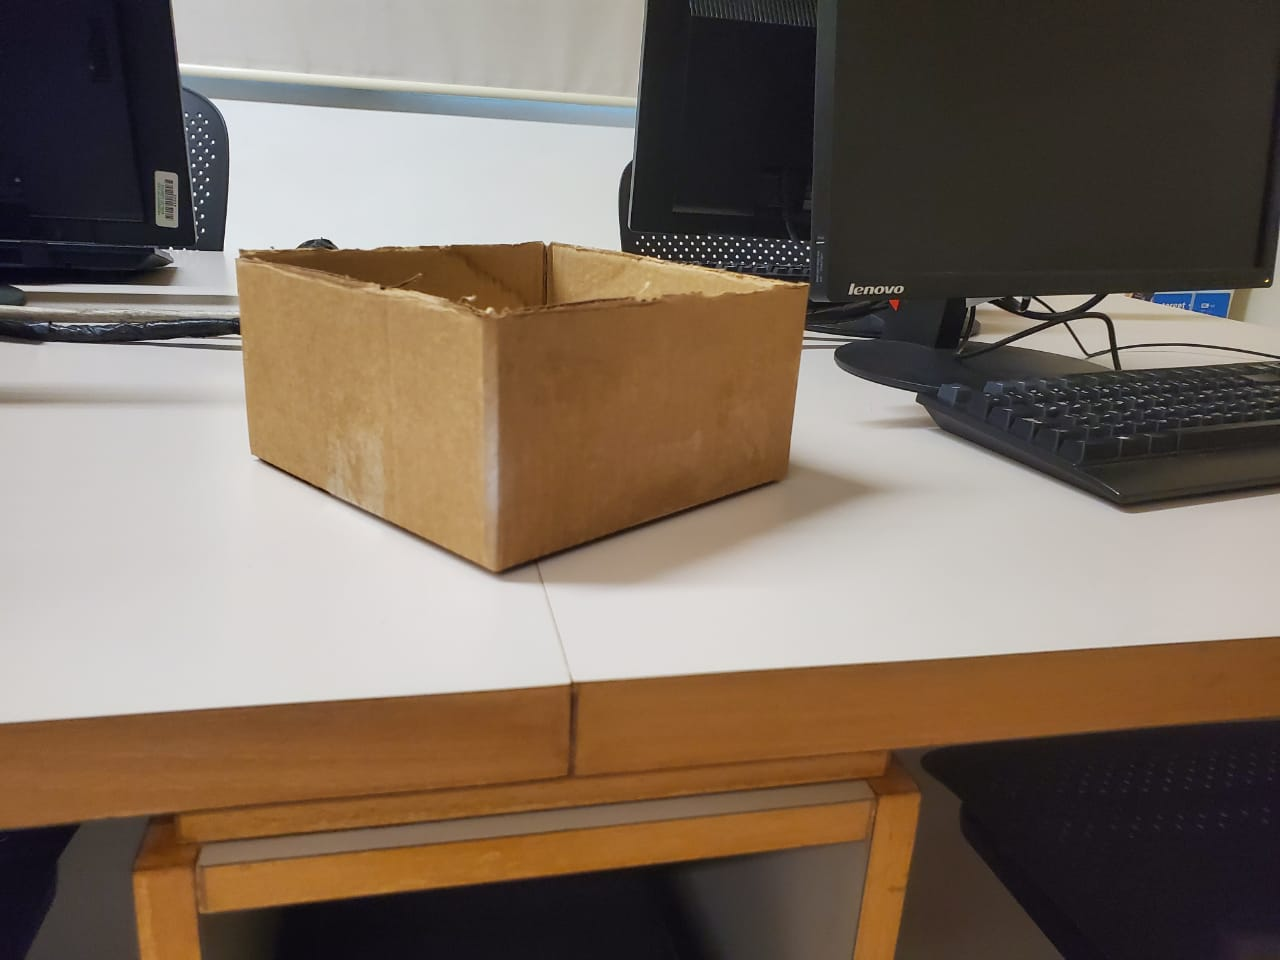CBox: (226, 239, 810, 574)
